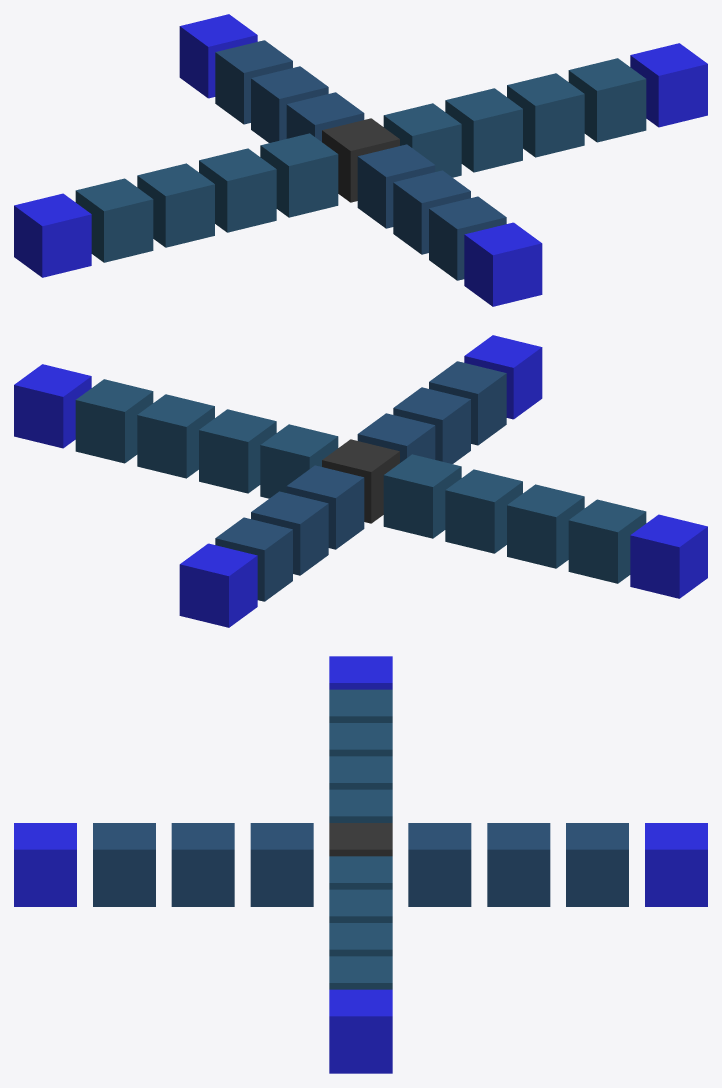
File: simple.cube.obj
3 renders of one model, top to bottom at view 1: azimuth 30°, elevation 25°; view 2: azimuth 150°, elevation 25°; view 3: azimuth 270°, elevation 25°, orthographic. The views are drawn at different scales.
Bounding box in the file's own units: 10.8 × 0.8 × 8.8.
Materials: 1 (1 with a texture image).
